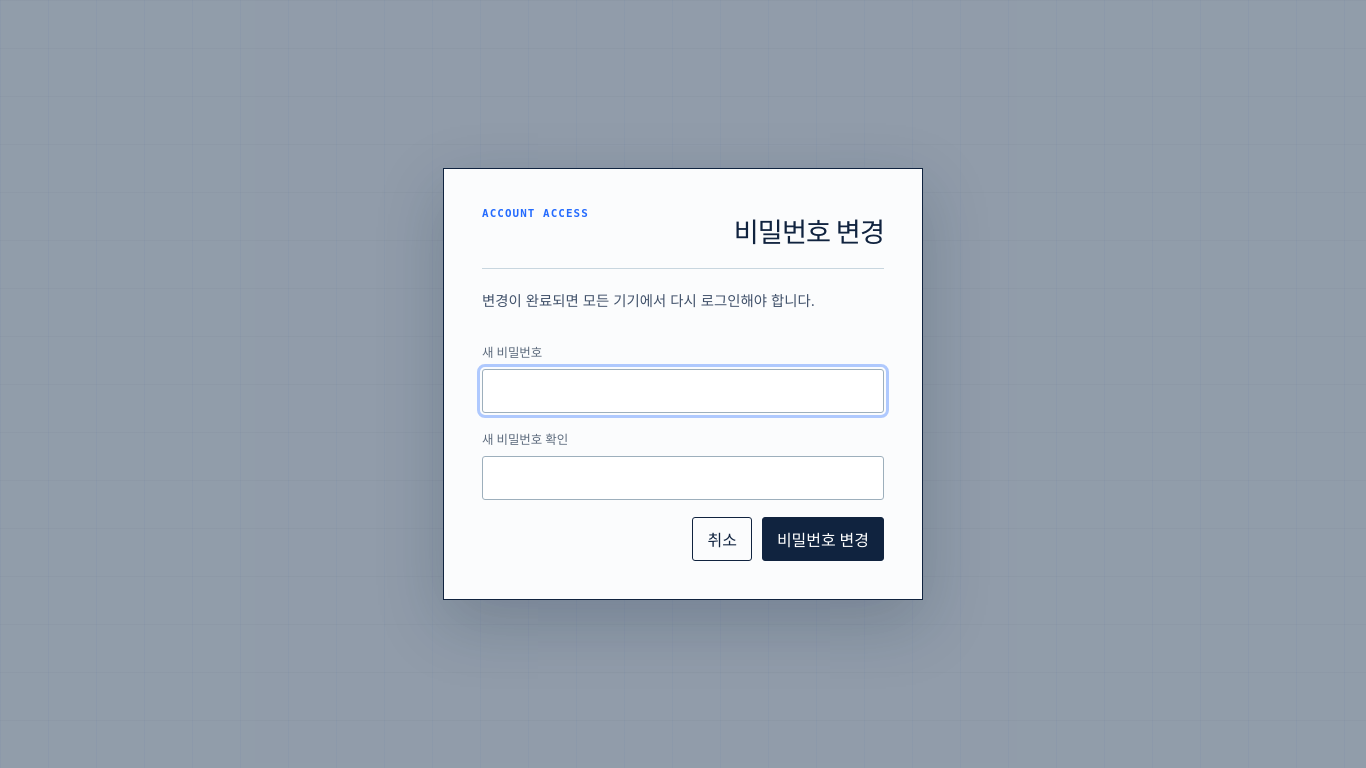
identity dialogs › matches the server minimum password length and clears rejected input
Type "short-auth-valu" into the password field labelled "새 비밀번호" at x=683, y=391, box [482,369,884,413]
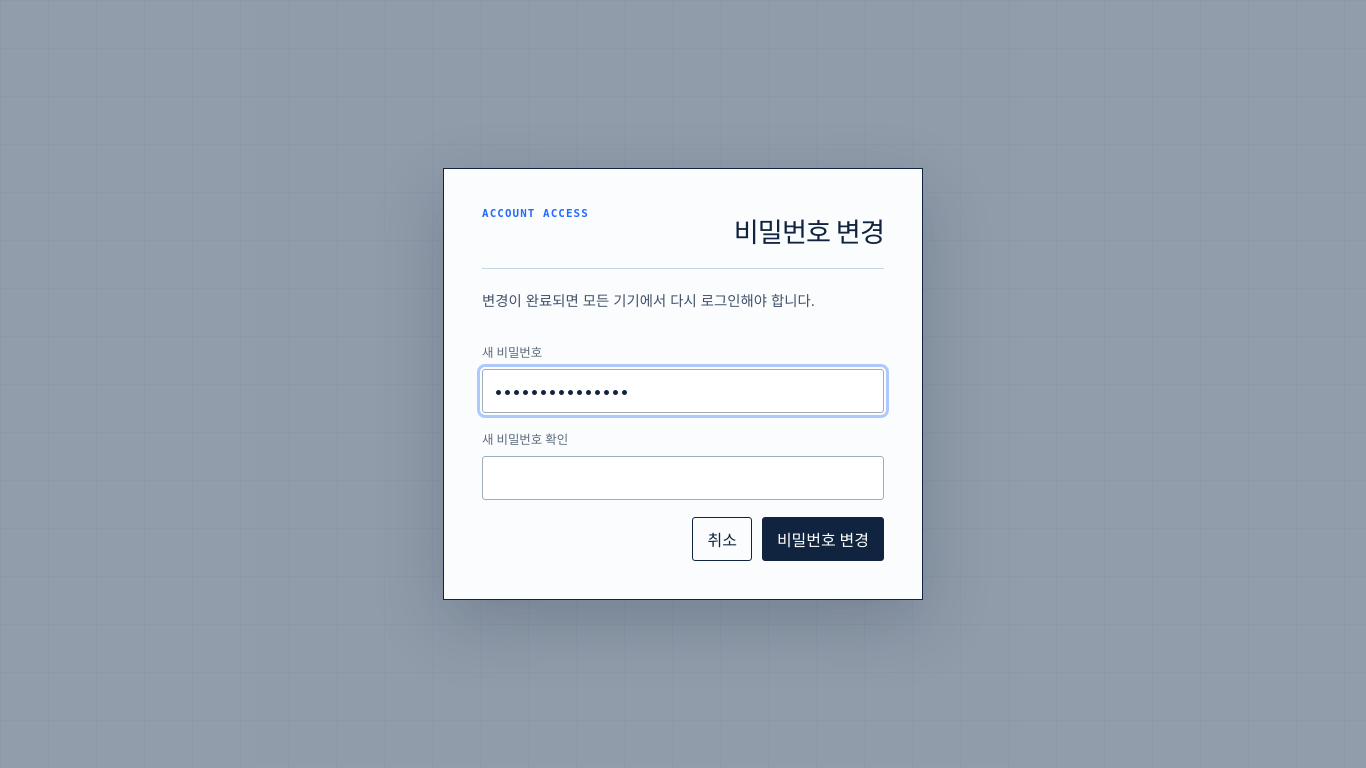
Type "short-auth-valu" into the password field labelled "새 비밀번호 확인" at x=683, y=478, box [482,456,884,500]
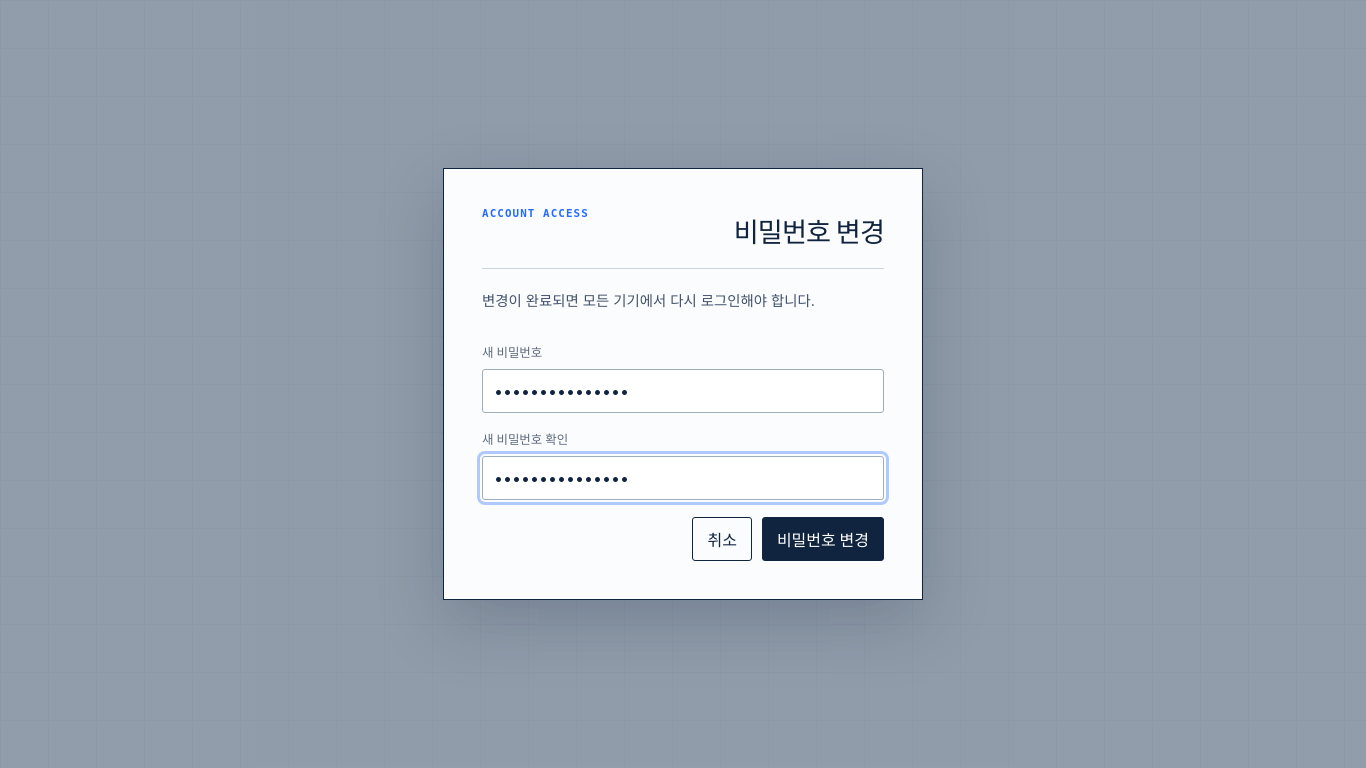
Click the button "비밀번호 변경" at x=823, y=539, box [762,517,884,561]
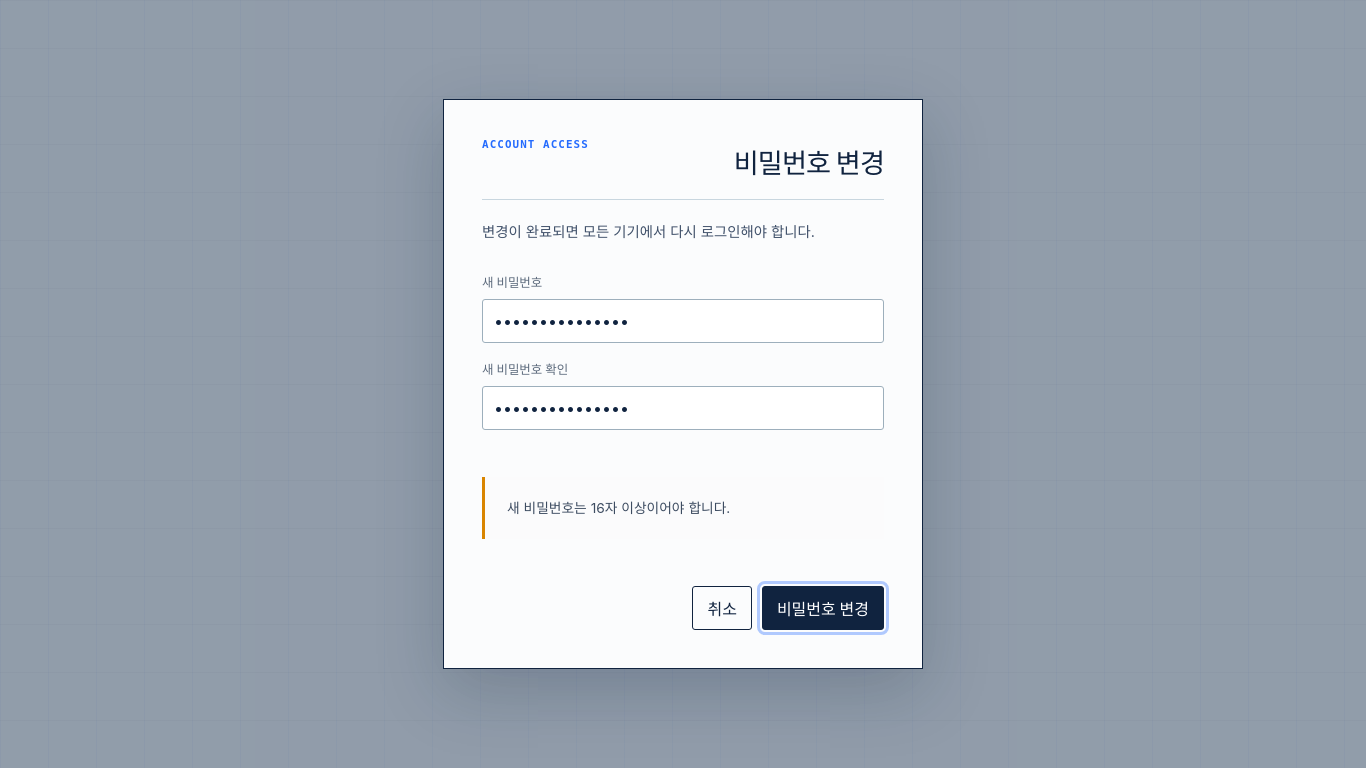
Now the message reads "새 비밀번호는 16자 이상이어야 합니다.", box [507,500,730,516]
